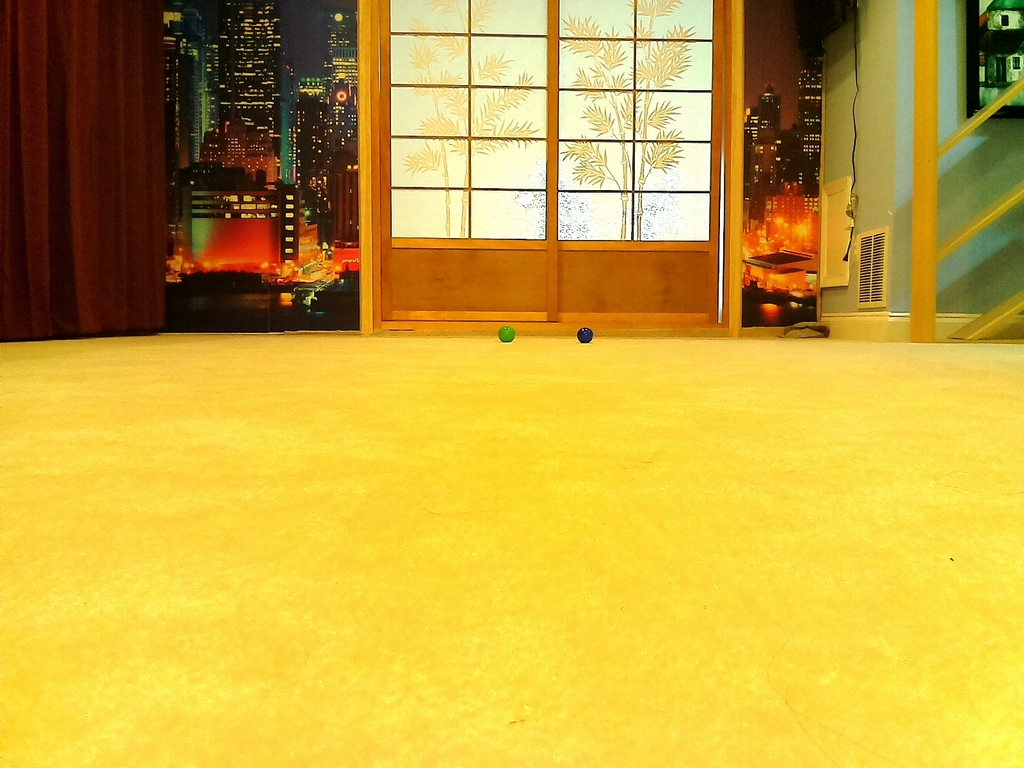ball: (578, 326, 592, 344)
